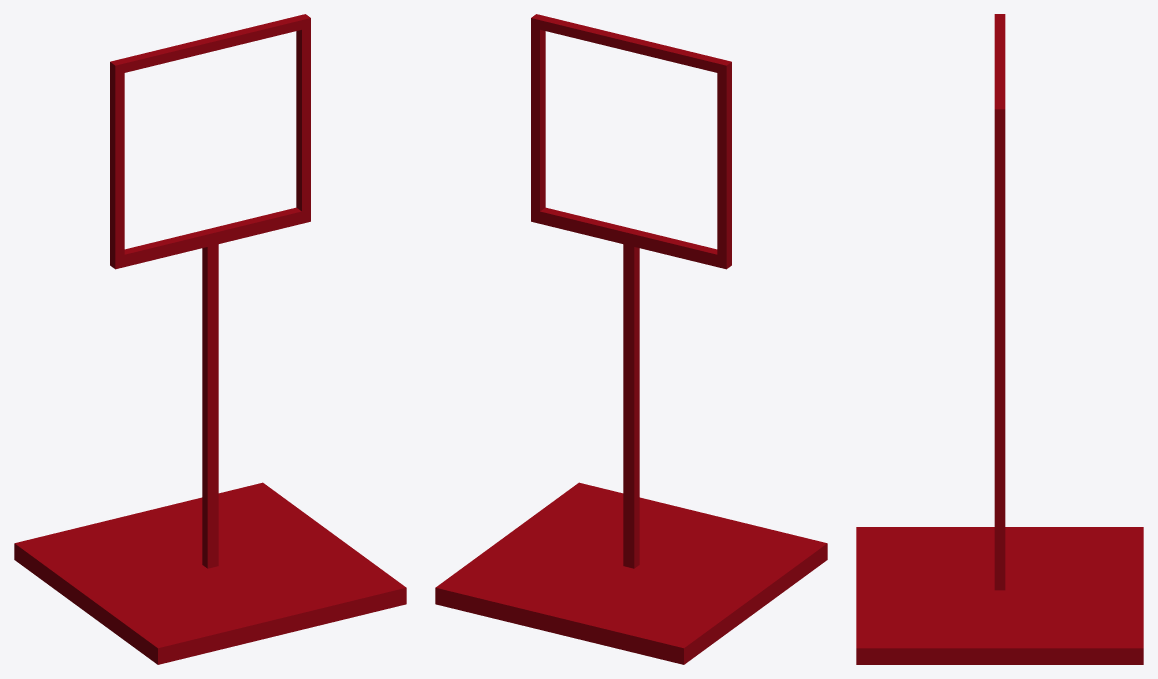
Rendered from gate.dae.
The picture shows the model from 3 angles, left to right: view 1: azimuth 30°, elevation 25°; view 2: azimuth 150°, elevation 25°; view 3: azimuth 270°, elevation 25°; orthographic projection.
Parts seen in each view (by area): view 1: Cube; view 2: Cube; view 3: Cube.
Part boxes in pixels (x1=…): Cube: x1=14, y1=14, x2=406, y2=664; Cube: x1=435, y1=14, x2=827, y2=664; Cube: x1=856, y1=14, x2=1143, y2=664.
Bounding box in the file's own units: 1.36 × 1.36 × 2.83.
